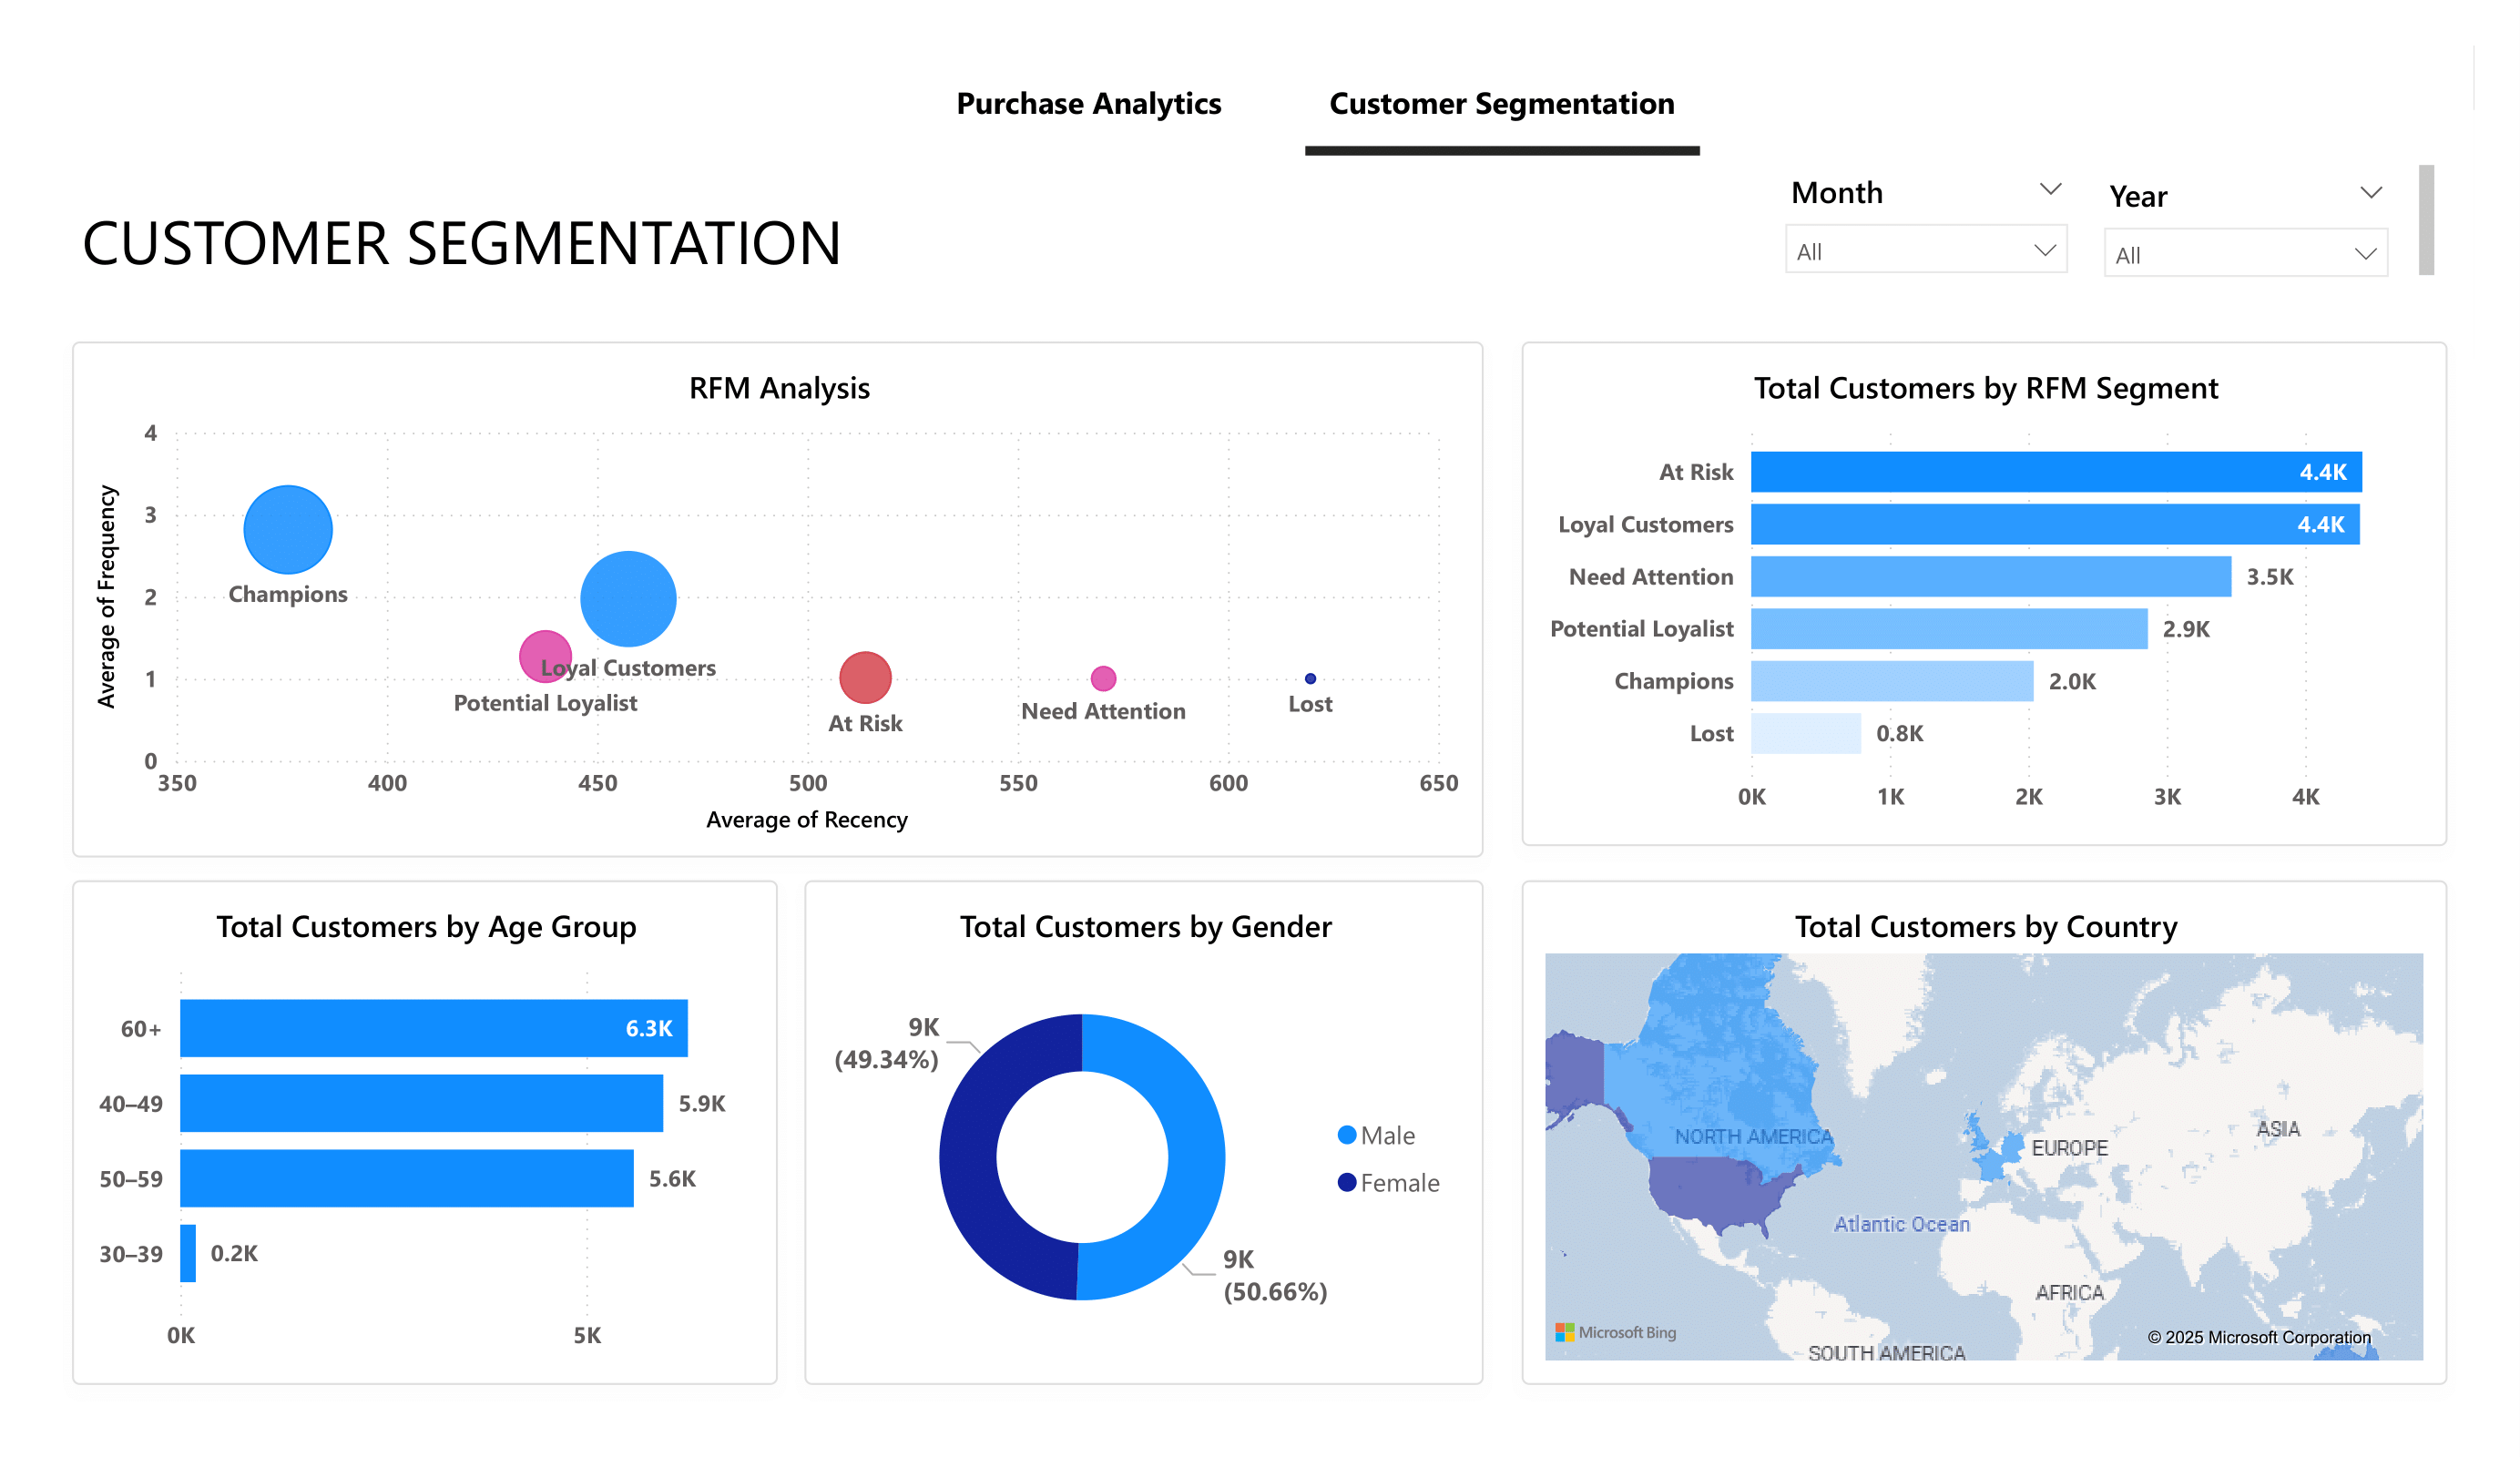

What the dashboard file says about the page in this screenshot:
{"tool":"powerbi","page":{"name":"Customer Segmentation","canvas":[1280,720],"ordinal":1},"visuals":[{"type":"textbox","box":[14,58,1250,84],"z":0},{"type":"scatterChart","title":"RFM Analysis","fields":{"Y":["Avg(RFM_Table.Frequency)"],"X":["Avg(RFM_Table.Recency)"],"Size":["Sum(RFM_Table.Monetary)"],"Category":["RFM_Table.RFM Segment"],"Series":["RFM_Table.RFM Segment"]},"box":[14,156,744,272],"z":1000},{"type":"barChart","title":"Total Customers  by RFM Segment","fields":{"Category":["RFM_Table.RFM Segment"],"Y":["_Measures.Total Customers"]},"box":[778,156,488,266],"z":2000},{"type":"donutChart","fields":{"Category":["Customer_dim.Gender"],"Y":["_Measures.Total Customers"]},"box":[400,440,358,266],"z":3000},{"type":"filledMap","fields":{"Category":["Customer_dim.Country Hierarchy.Country","Customer_dim.Country Hierarchy.State","Customer_dim.Country Hierarchy.City"]},"box":[778,440,488,266],"z":4000},{"type":"barChart","fields":{"Category":["Customer_dim.Age Group"],"Y":["_Measures.Total Customers"]},"box":[14,440,372,266],"z":5000},{"type":"slicer","fields":{"Values":["Date_dim.CalendarYear"]},"box":[1080,68,160,74],"z":6000},{"type":"pageNavigator","box":[446,0,426,58],"z":7000}]}

Visuals, with their boxes on the page's 1280x720 design canvas (x1, y1, x2, y2). These are canvas units, not pixel positions in the 2520x1457 screenshot, which may show the page scaled, cropped or inside an application window:
textbox: [x1=14, y1=58, x2=1264, y2=142]
"RFM Analysis" scatterChart: [x1=14, y1=156, x2=758, y2=428]
"Total Customers  by RFM Segment" barChart: [x1=778, y1=156, x2=1266, y2=422]
donutChart - Customer_dim.Gender x _Measures.Total Customers: [x1=400, y1=440, x2=758, y2=706]
filledMap - Customer_dim.Country Hierarchy.Country x Customer_dim.Country Hierarchy.State: [x1=778, y1=440, x2=1266, y2=706]
barChart - Customer_dim.Age Group x _Measures.Total Customers: [x1=14, y1=440, x2=386, y2=706]
slicer - Date_dim.CalendarYear: [x1=1080, y1=68, x2=1240, y2=142]
pageNavigator: [x1=446, y1=0, x2=872, y2=58]
